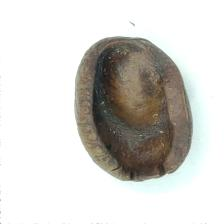NG: (81, 37, 189, 178)
